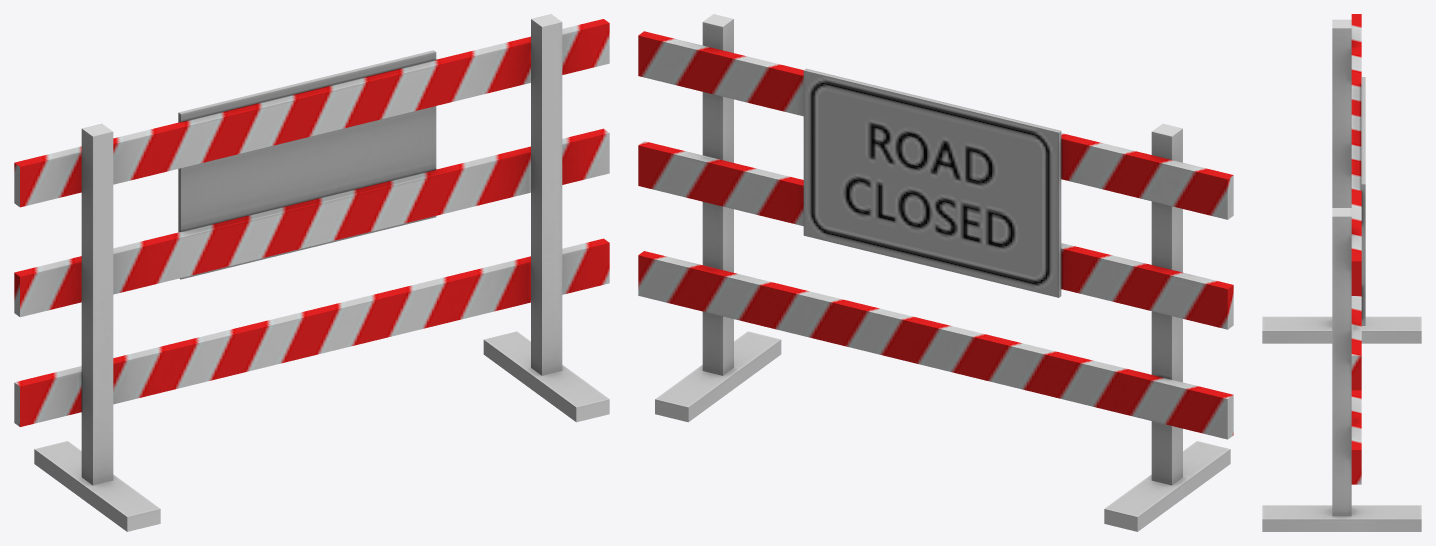
File: TRF0210026.fbx
The picture shows the model from 3 angles, left to right: view 1: azimuth 30°, elevation 25°; view 2: azimuth 150°, elevation 25°; view 3: azimuth 270°, elevation 25°; orthographic projection. The views are drawn at different scales.
Visible parts, largest first — view 1: smTRF0210026; view 2: smTRF0210026; view 3: smTRF0210026.
Part boxes in pixels (left/top/right/bottom): smTRF0210026: left=14, top=14, right=609, bottom=531; smTRF0210026: left=638, top=14, right=1233, bottom=531; smTRF0210026: left=1262, top=14, right=1421, bottom=531.
Bounding box in the file's own units: 194 × 114 × 52.79.
1 material, 1 textured.
